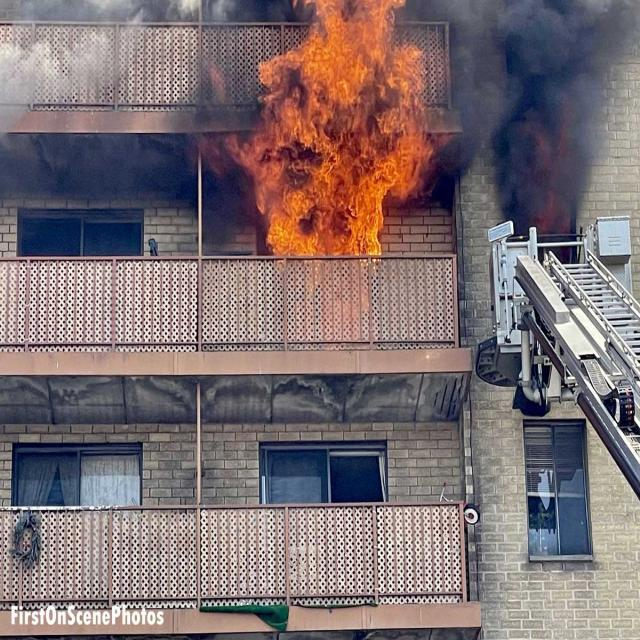Fire: (222, 0, 436, 258)
Smoke: (0, 0, 242, 240), (438, 0, 628, 248)
